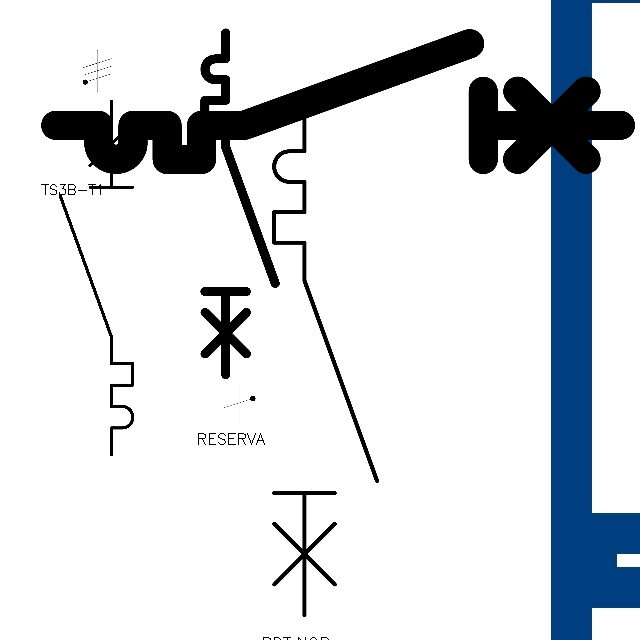interruptor_termomagnetico: (41, 29, 635, 174), (261, 100, 390, 627), (51, 92, 142, 464), (196, 24, 284, 383)
